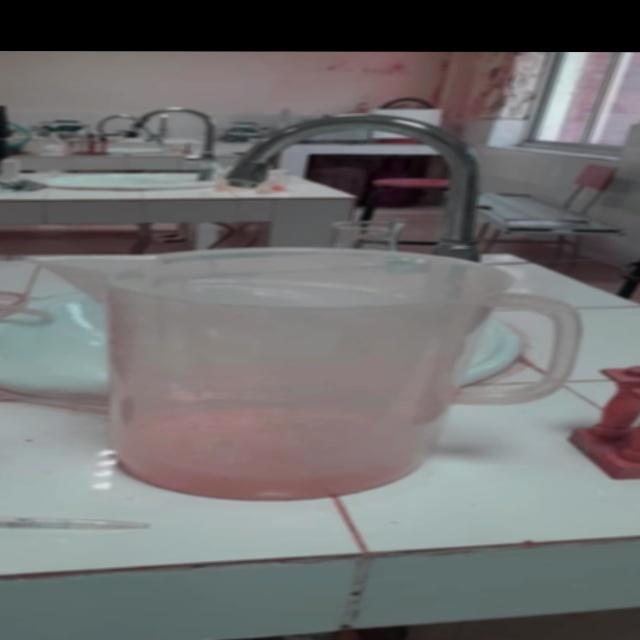Beakers: (0, 245, 614, 508)
